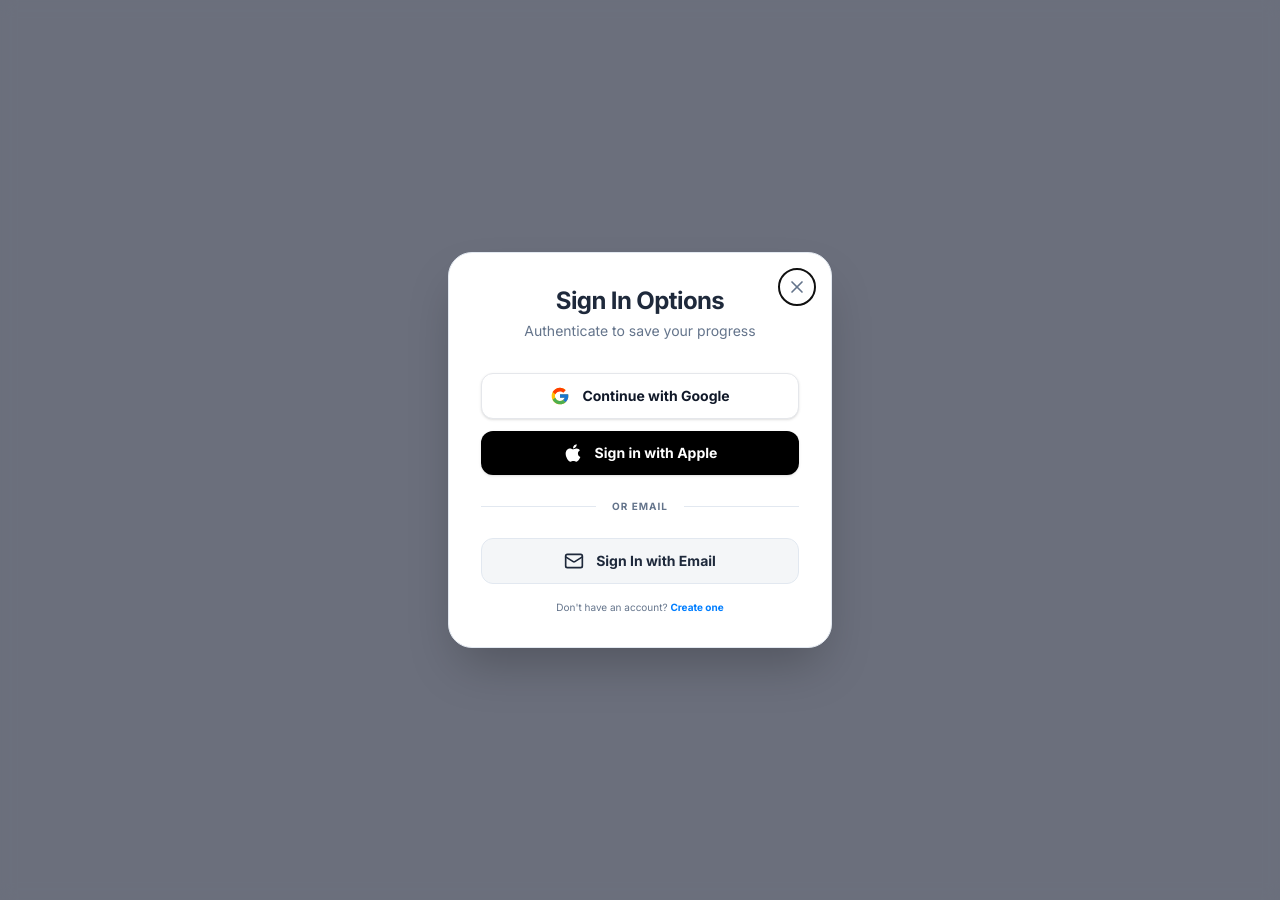
Scenario: SignInModal › email sign-in view › returns to main view when "Back to choices" is clicked
Step 1. Click the button "Sign In with Email" → click(640, 561), box [481,538,799,584]
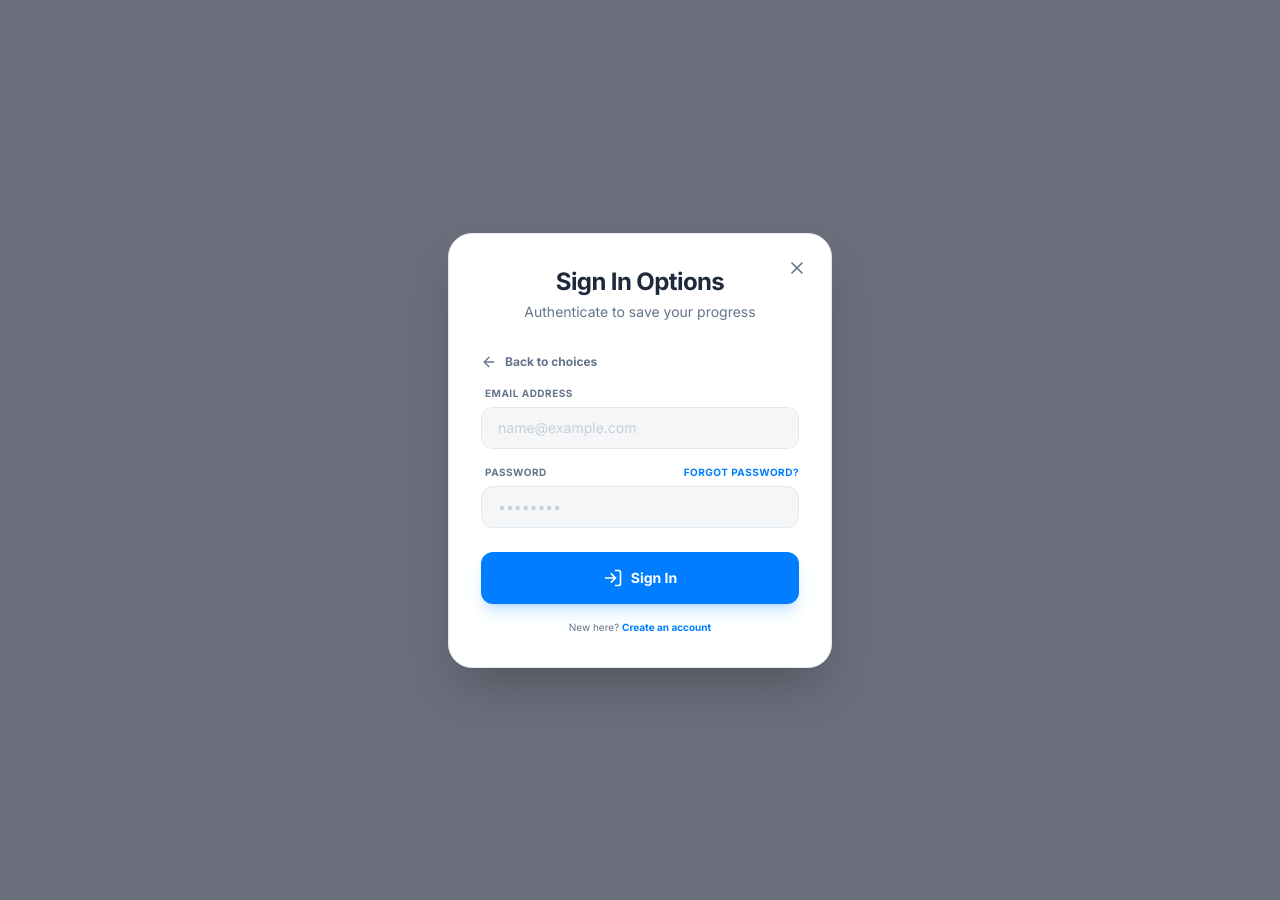
Step 2. Click the button "Back to choices" → click(539, 362), box [481,354,597,370]
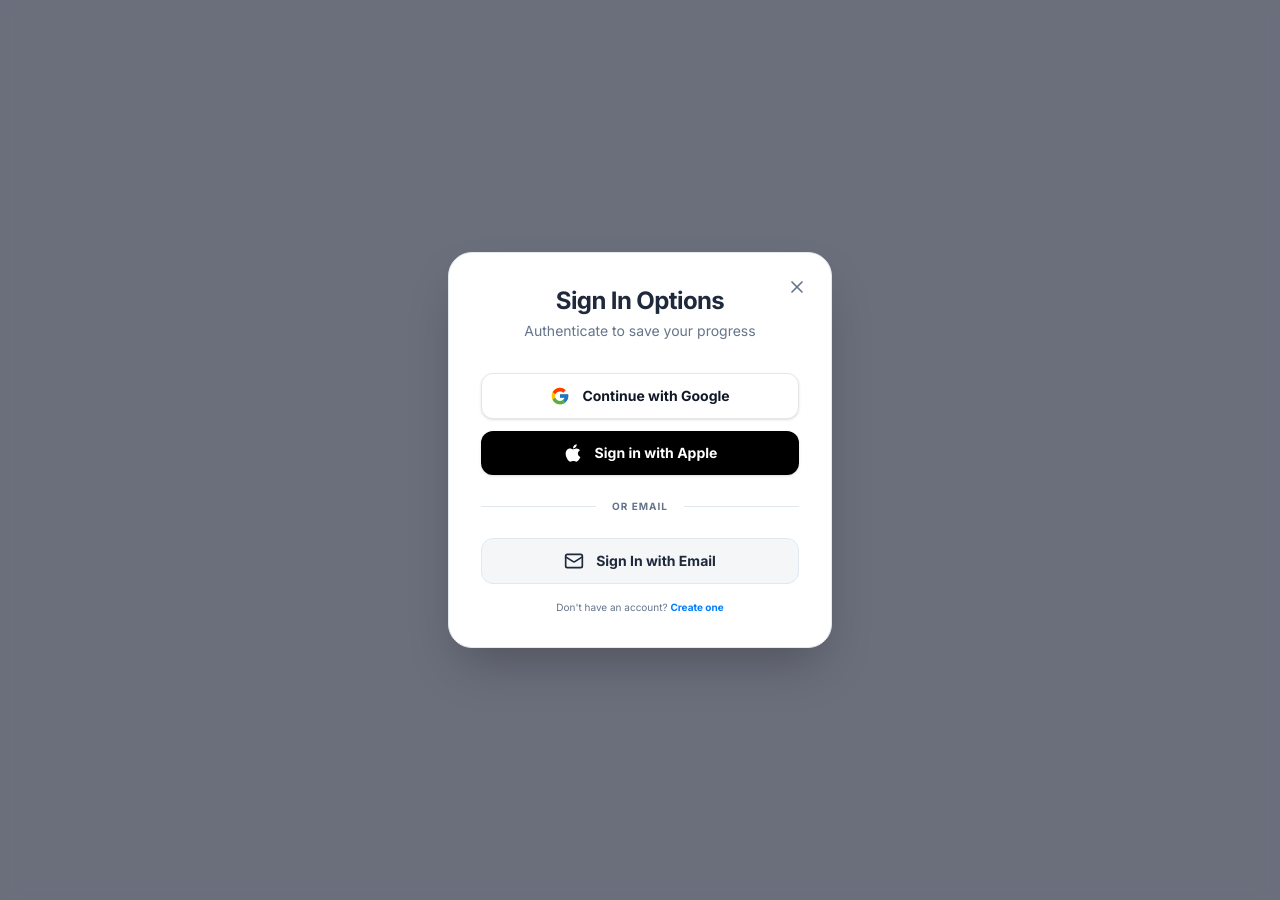
Result: the button "Continue with Google" is shown at [481,373,799,419]
